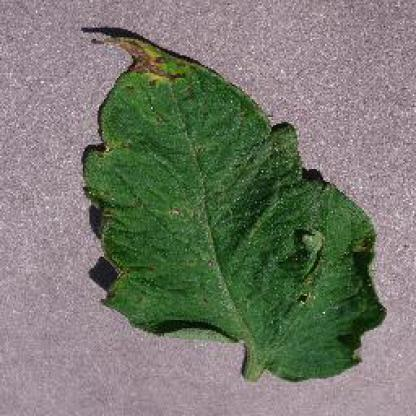bad leaf: (56, 12, 382, 383)
